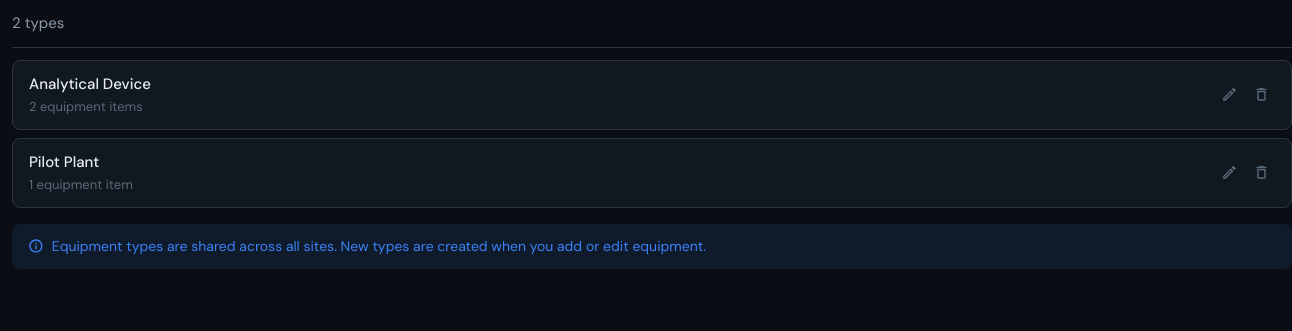
Scenario: EquipmentTypesPanel › shows why the backend refused to delete a type that is still in use
Expected: the text "Analytical Device" is shown, [29,72,151,95]
Step 1. Click the button named "Delete Analytical Device" → (1261, 94), box [1247,80,1275,108]
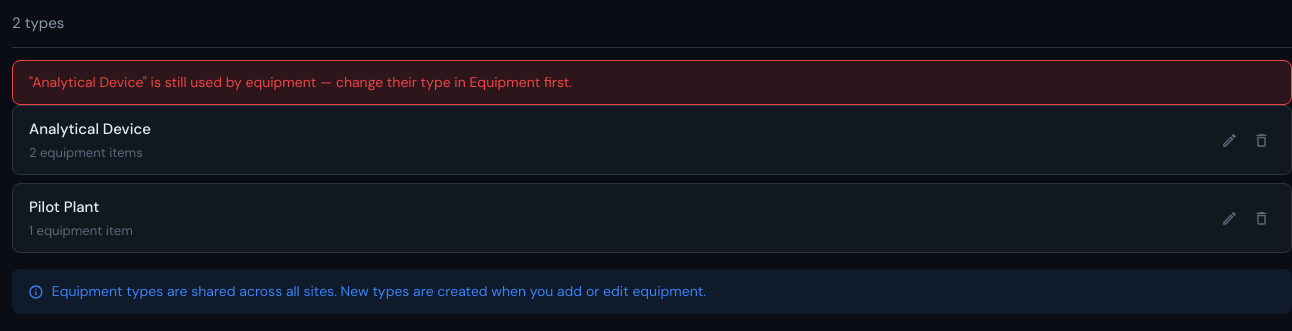
Expected: the text "Analytical Device" is shown, [29,118,151,141]
Result: the text "\"Analytical Device\" is still used by equipment — change their type in Equipment first." is shown at [29,72,572,90]
